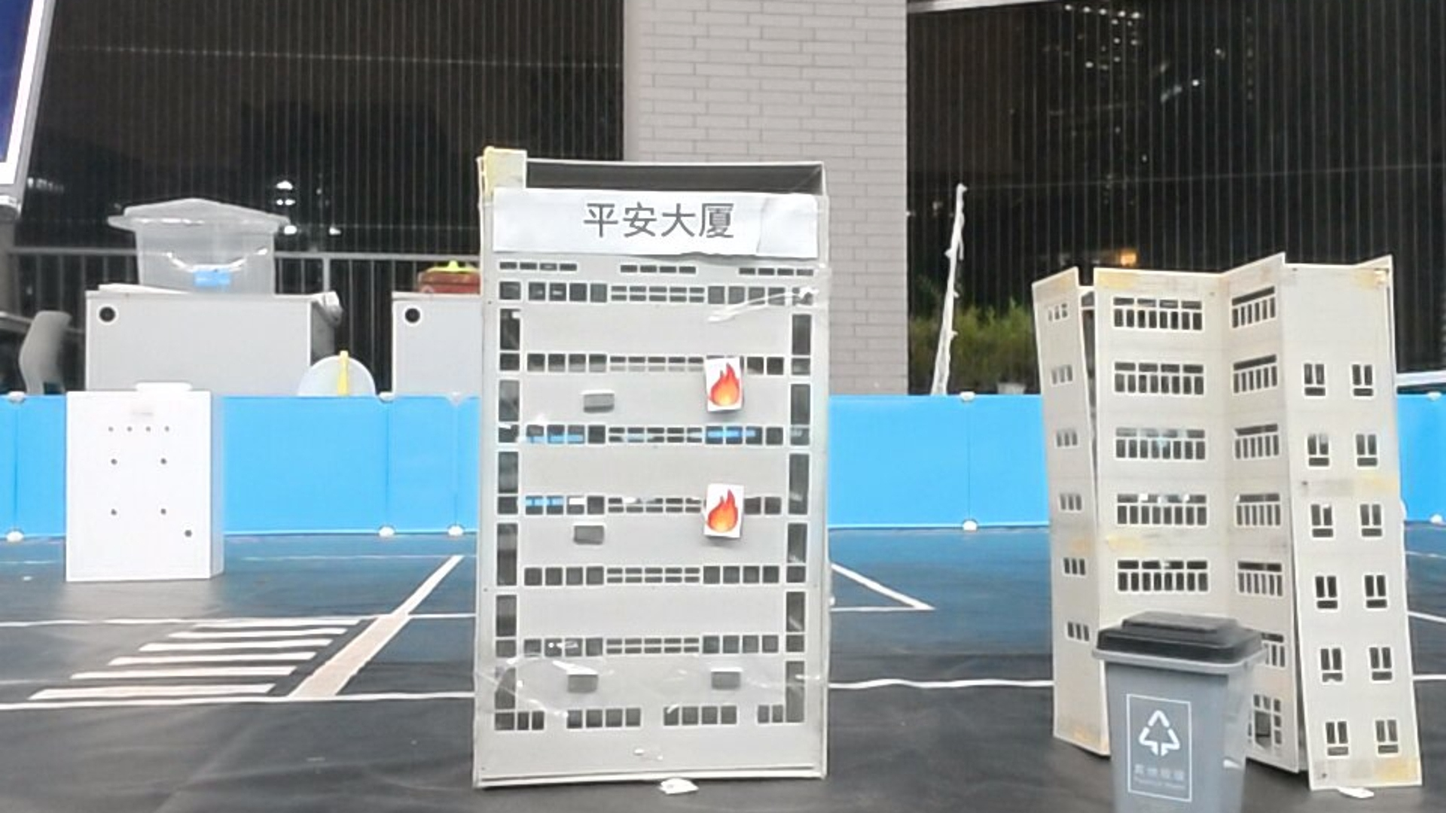fire: (704, 358, 745, 410), (704, 484, 742, 537)
